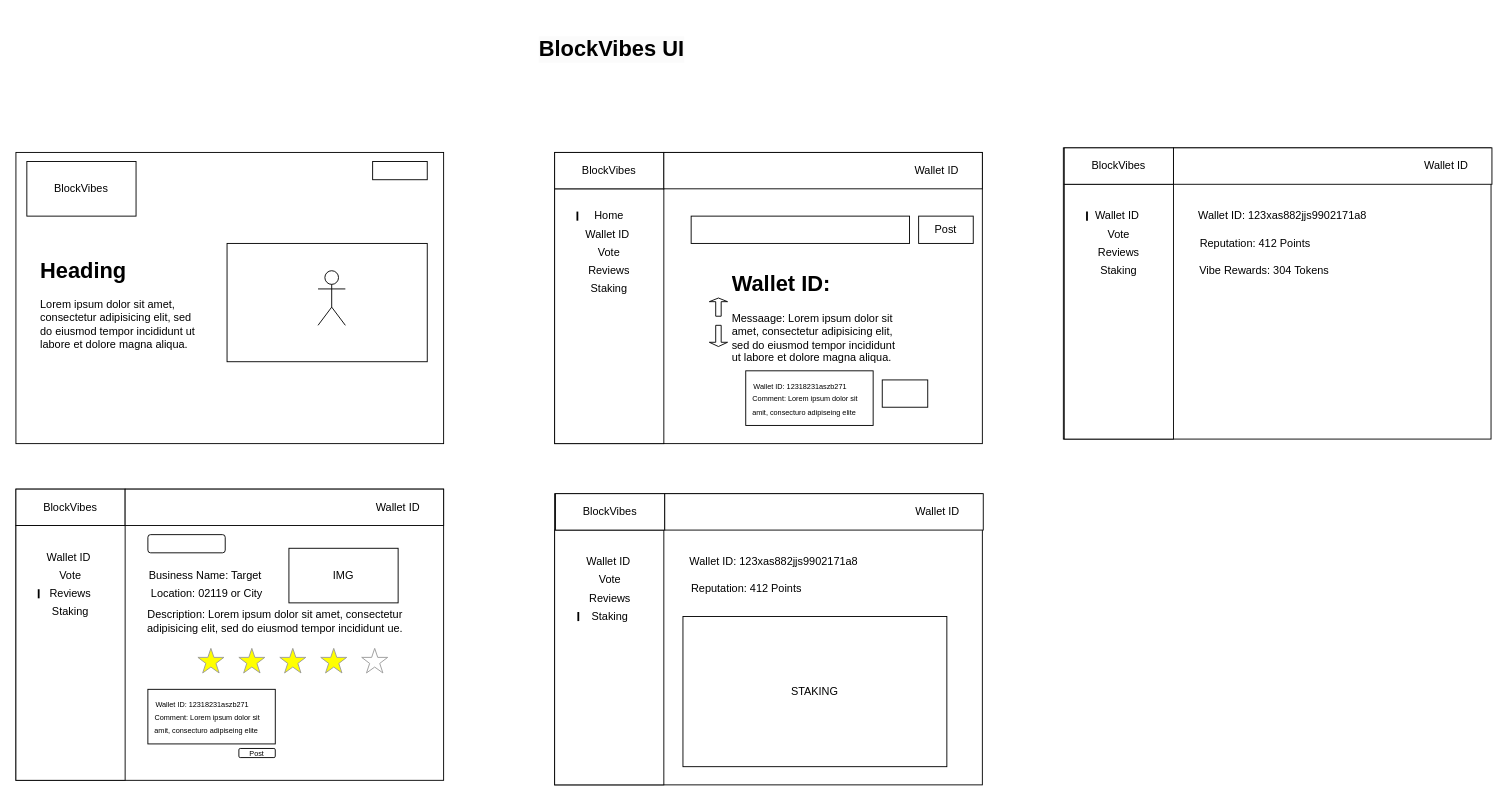
This 1508x801 diagram has some shape labels left out. The shapes that lost their labels are listed below. From the top down, each one's centre as x and y in pixels, then its label:
(399,170): MetaMask
(800,229): Create Message
(331,297): Actor
(904,393): Reply
(186,543): Create Review
